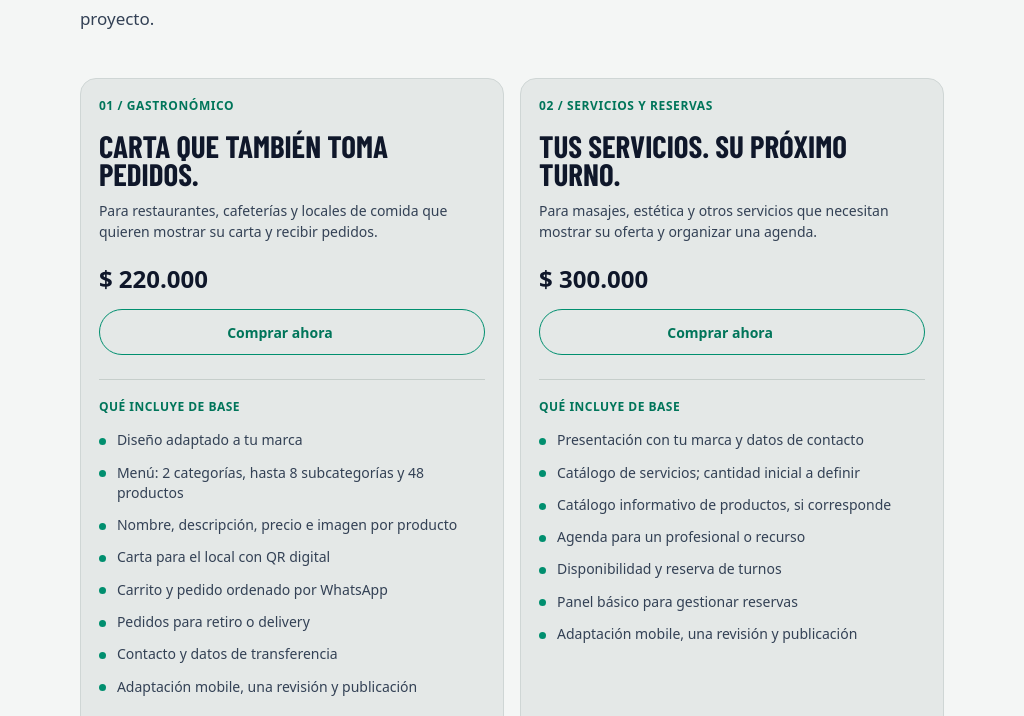
landing › asks about extras before contact and shows the base total and deposit
(page scrolled)
Click the button "Comprar ahora" below "$ 220.000". click: (292, 332)
box: [99,309,485,355]
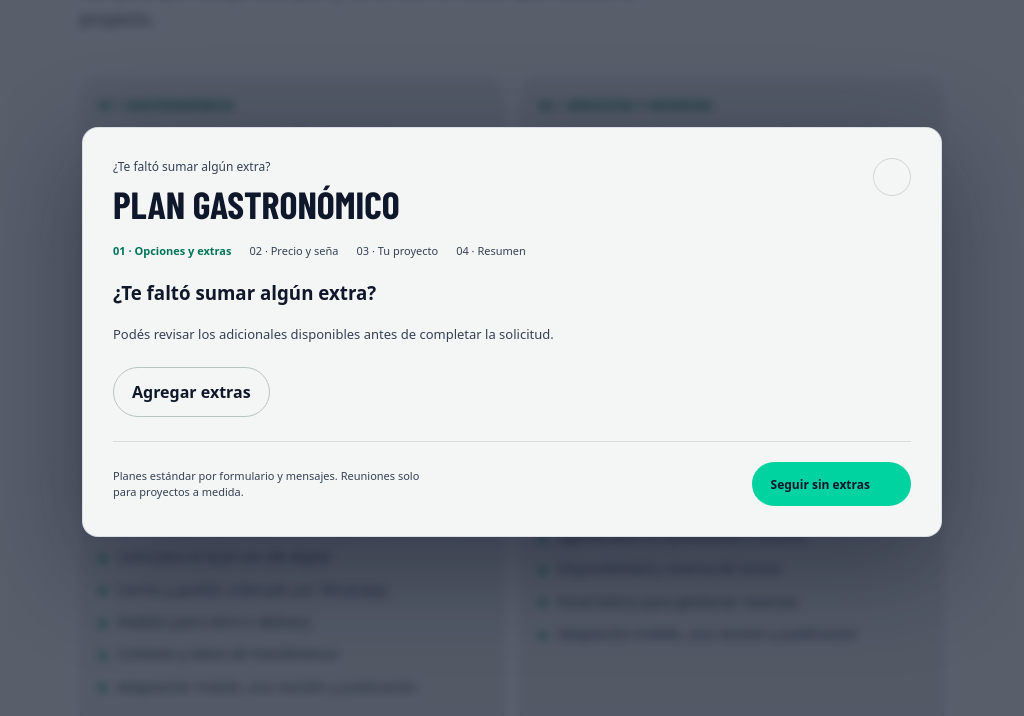
Expected: the field labelled "Tu nombre" is not shown
Now the heading "¿Te faltó sumar algún extra?" is shown, box [113,280,376,305]
Click the button "Seguir sin extras". click: (831, 484)
box: [752,462,911,506]
(page scrolled)
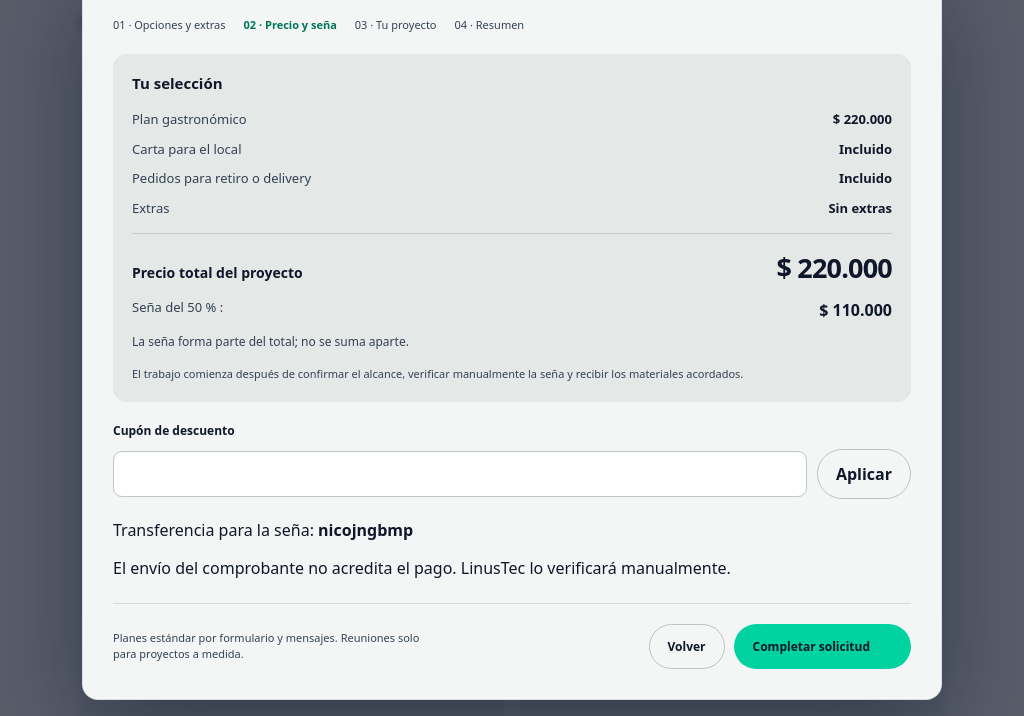
Now the element labelled "Tu selección" shows "220.000", box [833,110,892,128]
Now the element labelled "Tu selección" shows "110.000", box [819,299,892,321]
Now the element labelled "Tu selección" shows "La seña forma parte del total; no se suma aparte.", box [132,333,409,350]
Click the button "Completar solicitud". click: (822, 646)
box: [734,624,911,669]
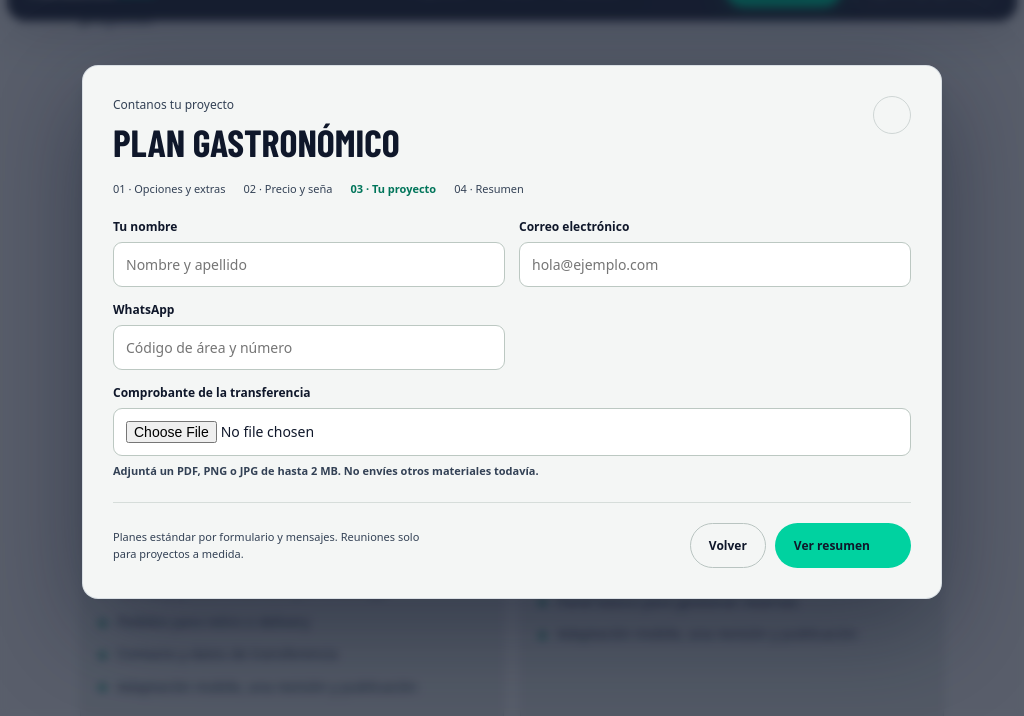
Now the field labelled "Tu nombre" is shown, box [113,242,505,287]
Now the file field labelled "Comprobante de la transferencia" is shown, box [113,408,911,456]
